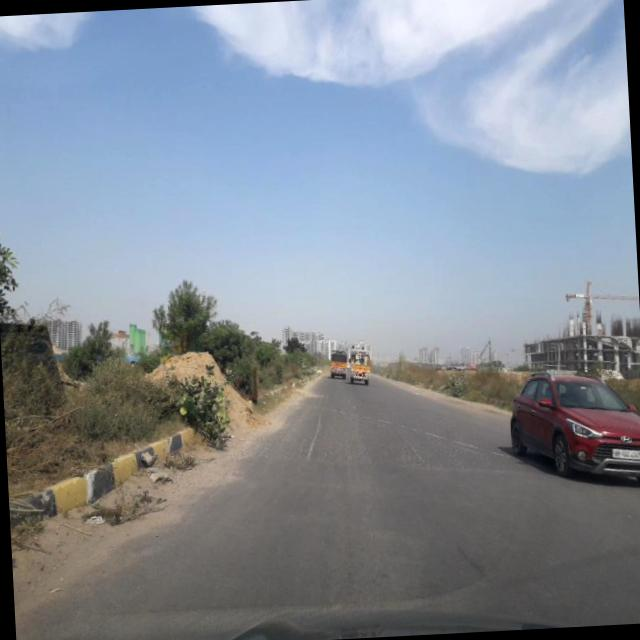pothole: (306, 398, 330, 460)
